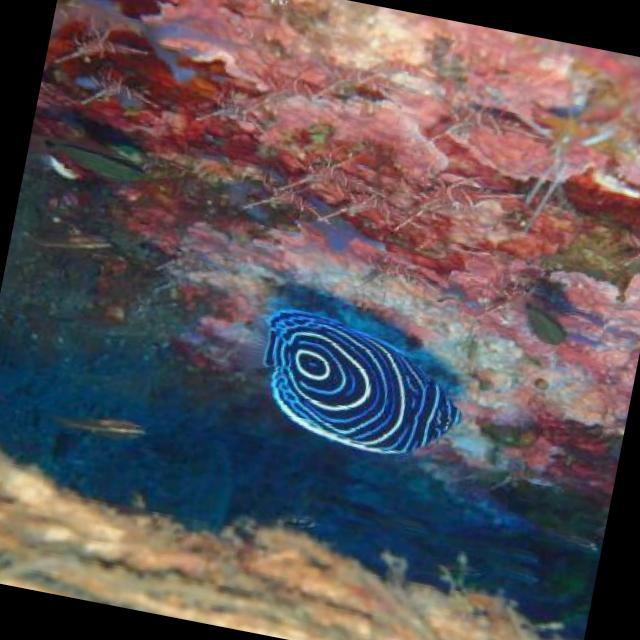AngelFish: (239, 293, 473, 466)
